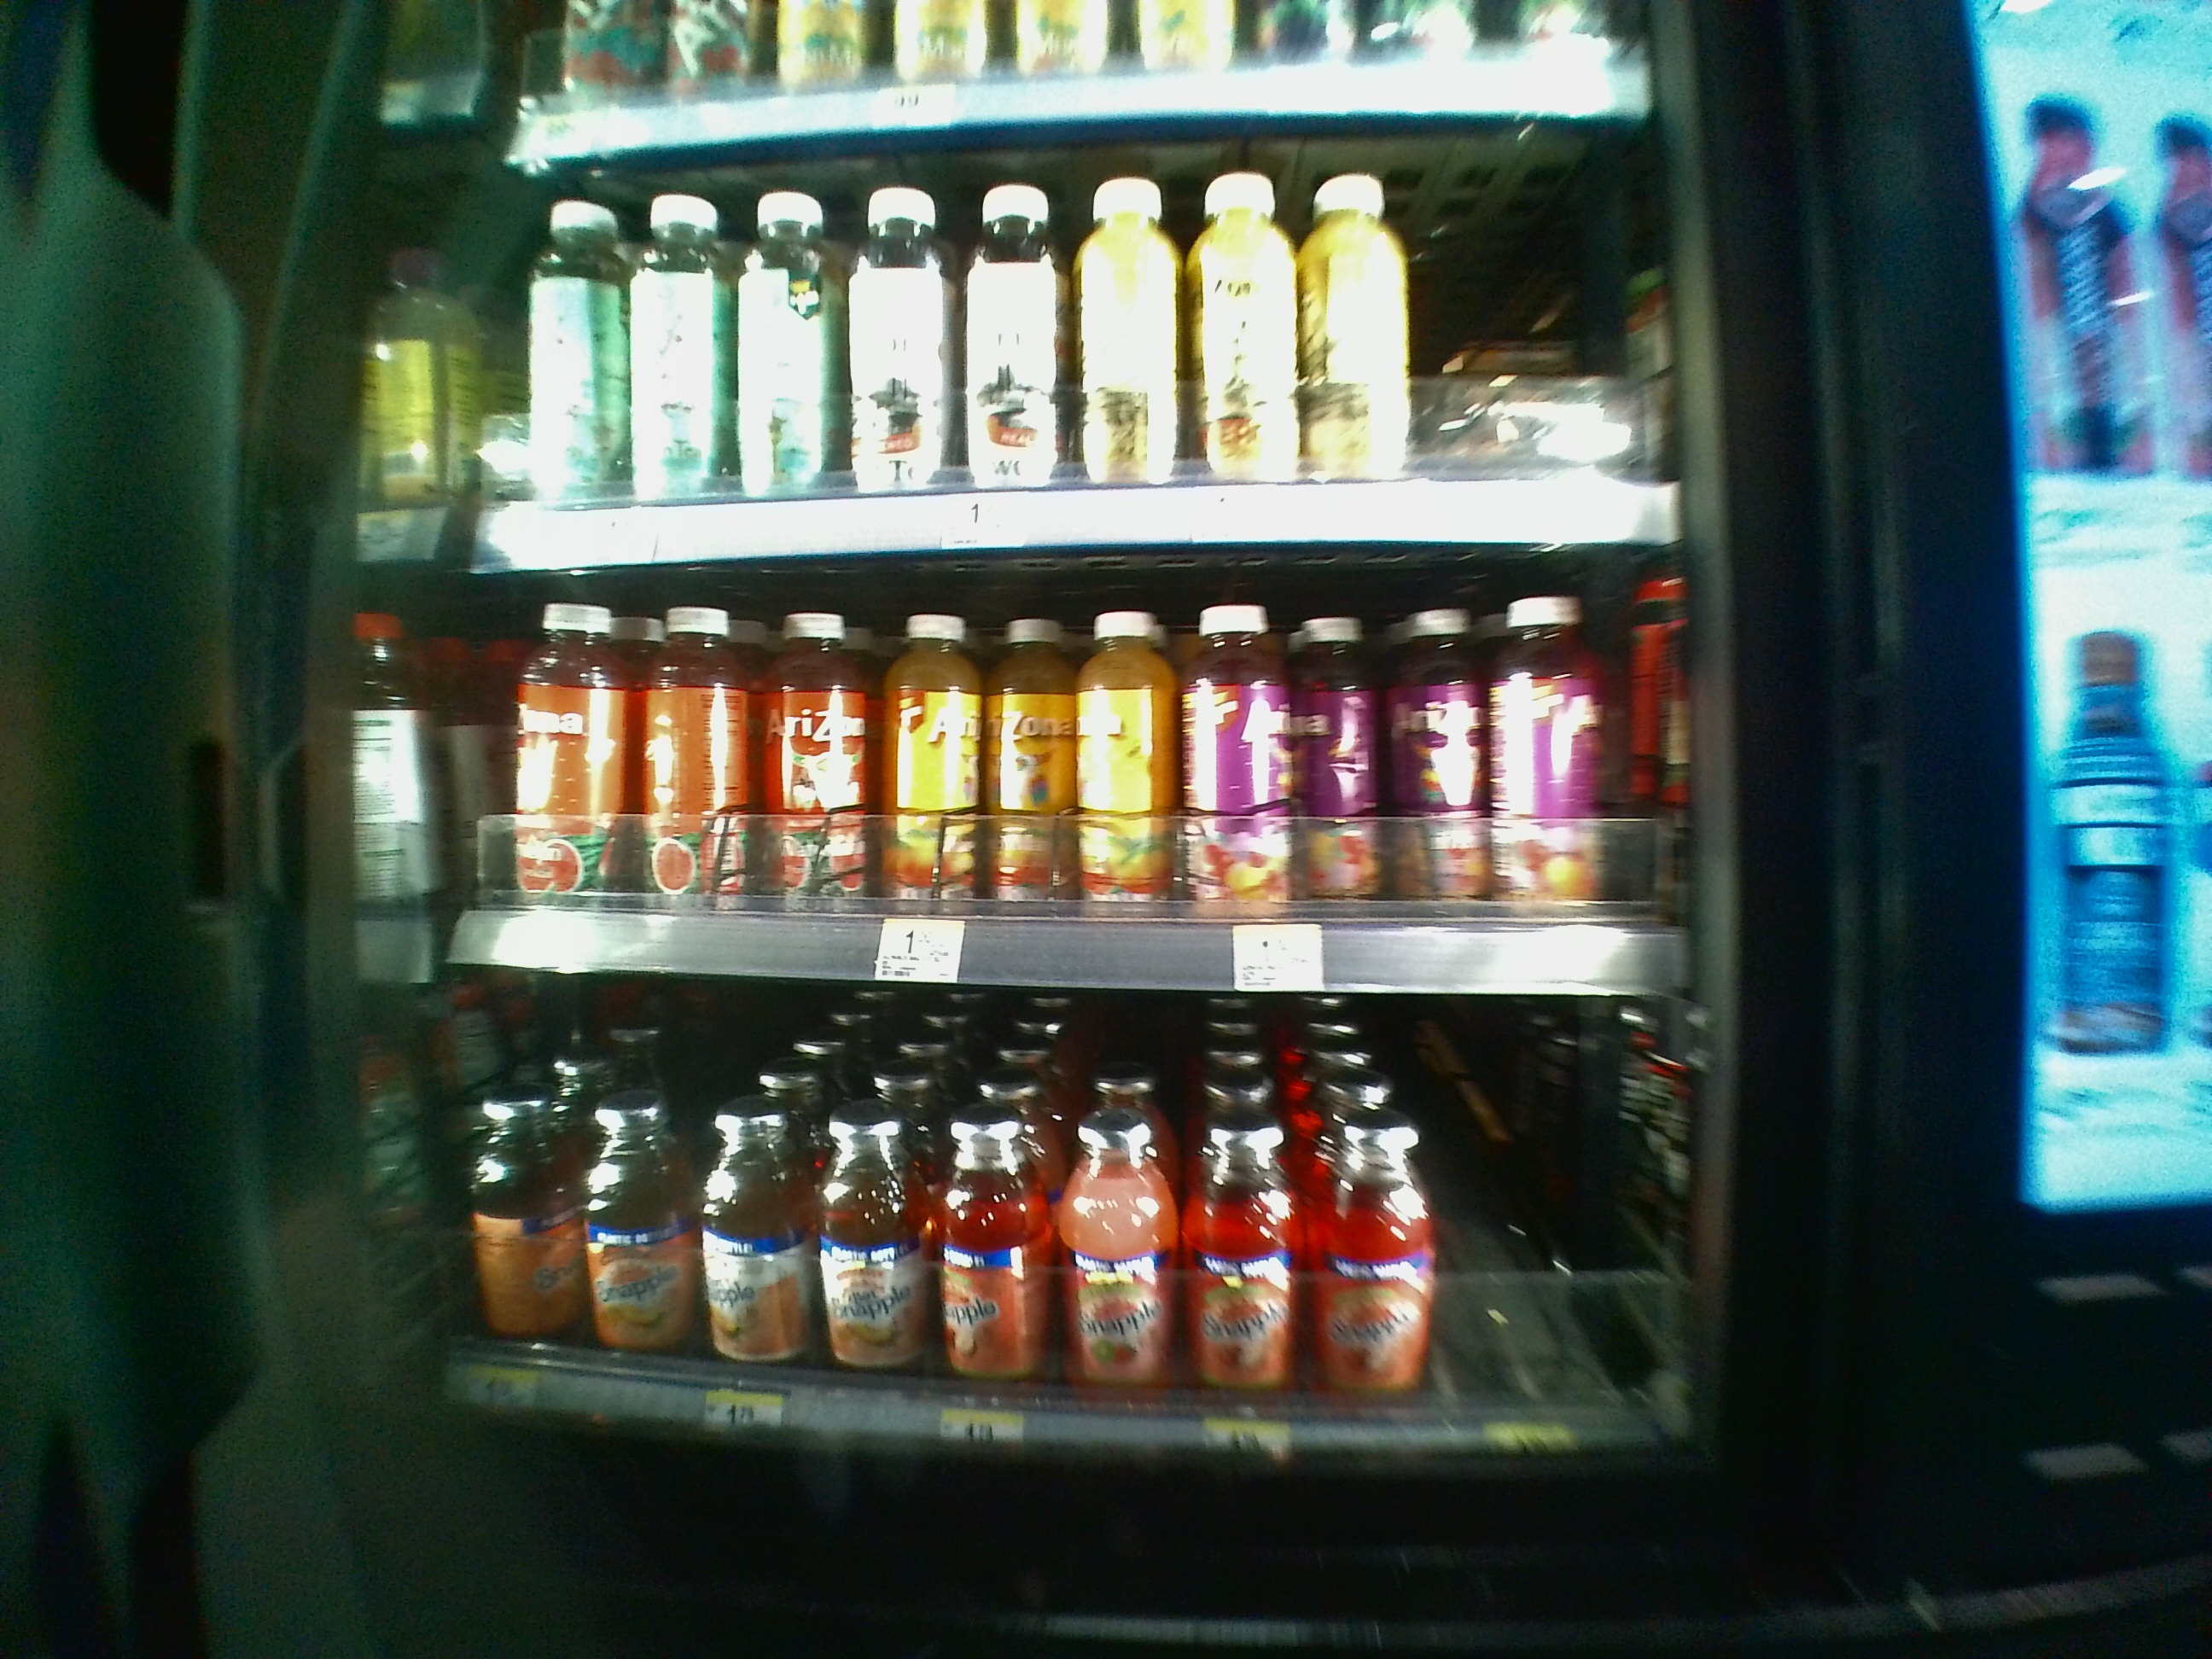shelf: (439, 1002, 1674, 1507), (446, 551, 1676, 993)
